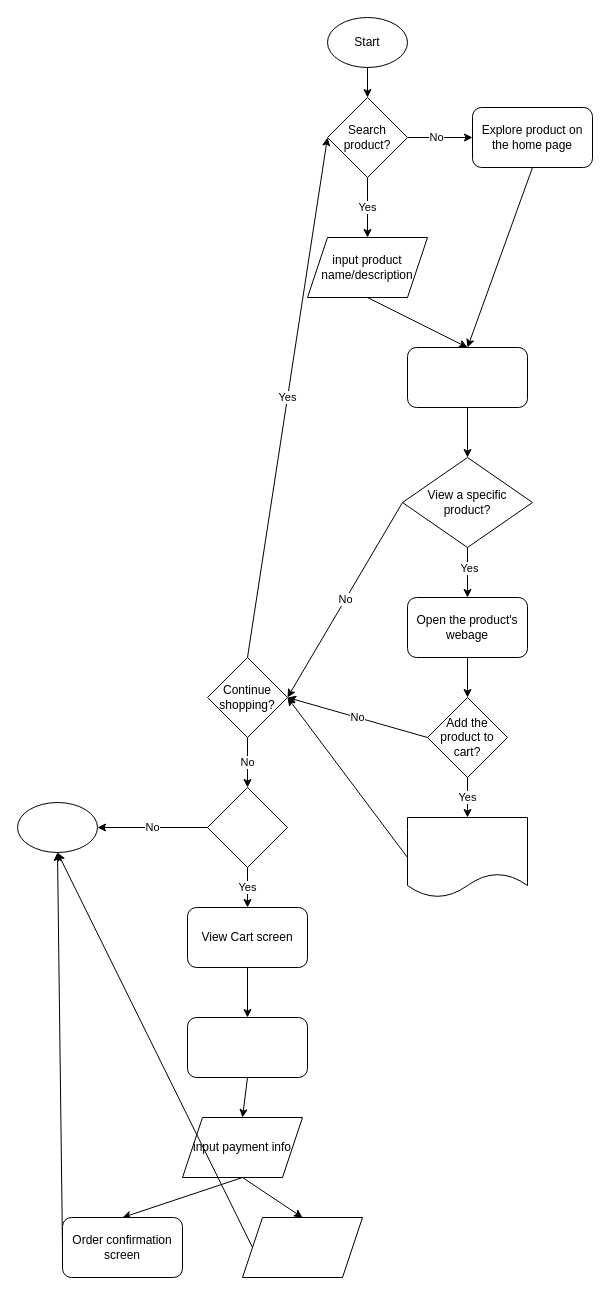
The diagram is 610 pixels wide and 1295 high, and some of its shapes have lost their labels. Here are the shapes that lost their labels. From the top down, the centre of each, then its label:
At point 467,377: "Looking over the product".
At point 57,827: "End".
At point 247,827: "Checkout?".
At point 467,857: "add to cart confirmation".
At point 247,1047: "View Payment screen".
At point 302,1247: "Send email to user".
